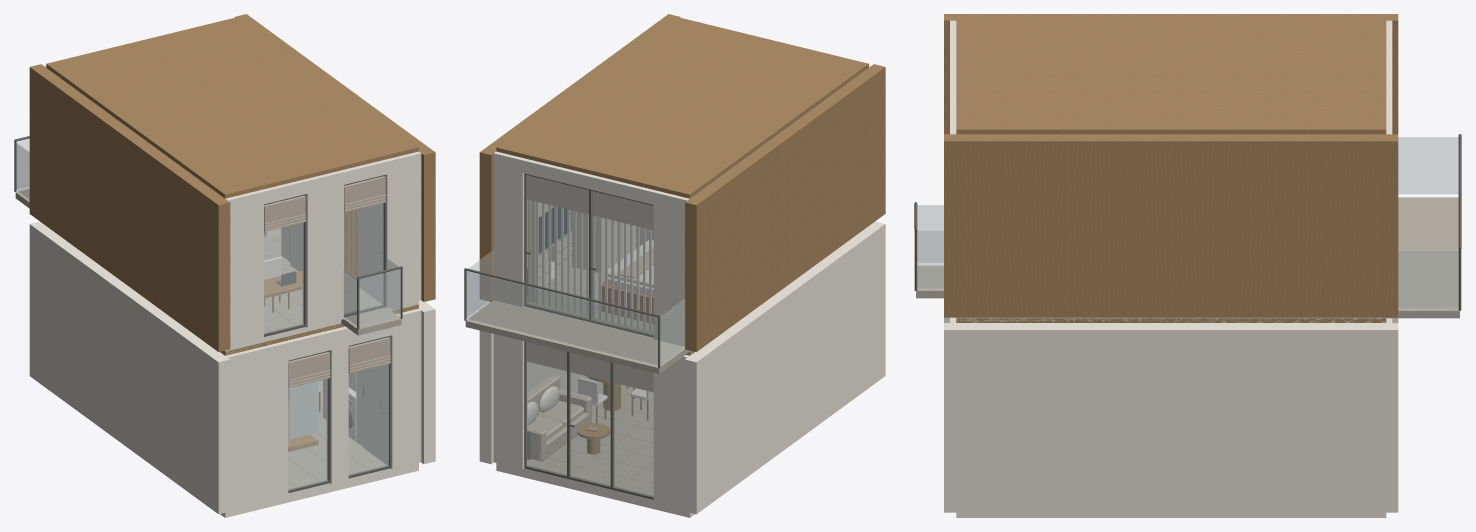
File: apartment.80a55359b3f2.glb
3 renders of one model, left to right at view 1: azimuth 30°, elevation 25°; view 2: azimuth 150°, elevation 25°; view 3: azimuth 270°, elevation 25°, orthographic. The views are drawn at different scales.
Visible parts, largest first — view 1: L2_Oak_ceiling_001, L1_Left_exterior_001, L2_Left_exterior_001, L1_Facade_pier_003, L2_Facade_pier_004, L2_Facade_pier_005, L2_Facade_pier_003, L1_Facade_pier_005, L2_Balcony, L1_Facade_6.4_0_glass_001, L1_Facade_6.4_1_glass_001, L2_Facade_6.4_0_glass_001 (+21 smaller); view 2: L2_Oak_ceiling_001, L1_Left_exterior_001, L2_Left_exterior_001, L2_Balcony, L2_Facade_0_0_glass_001, L2_Facade_0_1_glass_001, L1_Floor, L1_Facade_0_2_glass_001, L1_Facade_0_0_glass_001, L1_Facade_0_1_glass_001, L2_Facade_pier_002, L2_Facade_pier_001 (+23 smaller); view 3: L1_Right_exterior_001, L2_Right_exterior_001, L2_Oak_ceiling_001, L2_Balcony, L1_Floor_slab_001, L2_Left_exterior_001, L1_Oak_ceiling_003, L2_Floor_slab_003.
Boxes of the visible parts, x1=… form: L2_Oak_ceiling_001: x1=46, y1=16, x2=418, y2=198; L1_Left_exterior_001: x1=29, y1=221, x2=230, y2=514; L2_Left_exterior_001: x1=29, y1=64, x2=230, y2=351; L1_Facade_pier_003: x1=225, y1=341, x2=288, y2=508; L2_Facade_pier_004: x1=302, y1=170, x2=343, y2=327; L2_Facade_pier_005: x1=385, y1=151, x2=421, y2=308; L2_Facade_pier_003: x1=225, y1=190, x2=263, y2=346; L1_Facade_pier_005: x1=390, y1=308, x2=421, y2=469; L2_Balcony: x1=14, y1=136, x2=402, y2=335; L1_Facade_6.4_0_glass_001: x1=288, y1=379, x2=328, y2=489; L1_Facade_6.4_1_glass_001: x1=349, y1=364, x2=388, y2=475; L2_Facade_6.4_0_glass_001: x1=264, y1=222, x2=303, y2=333; L2_Oak_ceiling_001: x1=496, y1=16, x2=868, y2=198; L1_Left_exterior_001: x1=685, y1=221, x2=885, y2=514; L2_Left_exterior_001: x1=685, y1=64, x2=885, y2=351; L2_Balcony: x1=464, y1=250, x2=689, y2=373; L2_Facade_0_0_glass_001: x1=591, y1=191, x2=653, y2=334; L2_Facade_0_1_glass_001: x1=526, y1=175, x2=588, y2=318; L1_Floor: x1=527, y1=382, x2=653, y2=495; L1_Facade_0_2_glass_001: x1=526, y1=342, x2=566, y2=475; L1_Facade_0_0_glass_001: x1=613, y1=363, x2=653, y2=496; L1_Facade_0_1_glass_001: x1=570, y1=353, x2=610, y2=486; L2_Facade_pier_002: x1=493, y1=151, x2=527, y2=307; L2_Facade_pier_001: x1=653, y1=190, x2=689, y2=346; L1_Right_exterior_001: x1=944, y1=323, x2=1398, y2=512; L2_Right_exterior_001: x1=944, y1=134, x2=1398, y2=317; L2_Oak_ceiling_001: x1=956, y1=16, x2=1386, y2=134; L2_Balcony: x1=914, y1=134, x2=1461, y2=318; L1_Floor_slab_001: x1=956, y1=512, x2=1386, y2=517; L2_Left_exterior_001: x1=944, y1=14, x2=1398, y2=134; L1_Oak_ceiling_003: x1=956, y1=318, x2=1386, y2=322; L2_Floor_slab_003: x1=956, y1=317, x2=1385, y2=322.
Bounding box in the file's own units: 4.48 × 6.38 × 8.14.
18 materials, 3 textured.
